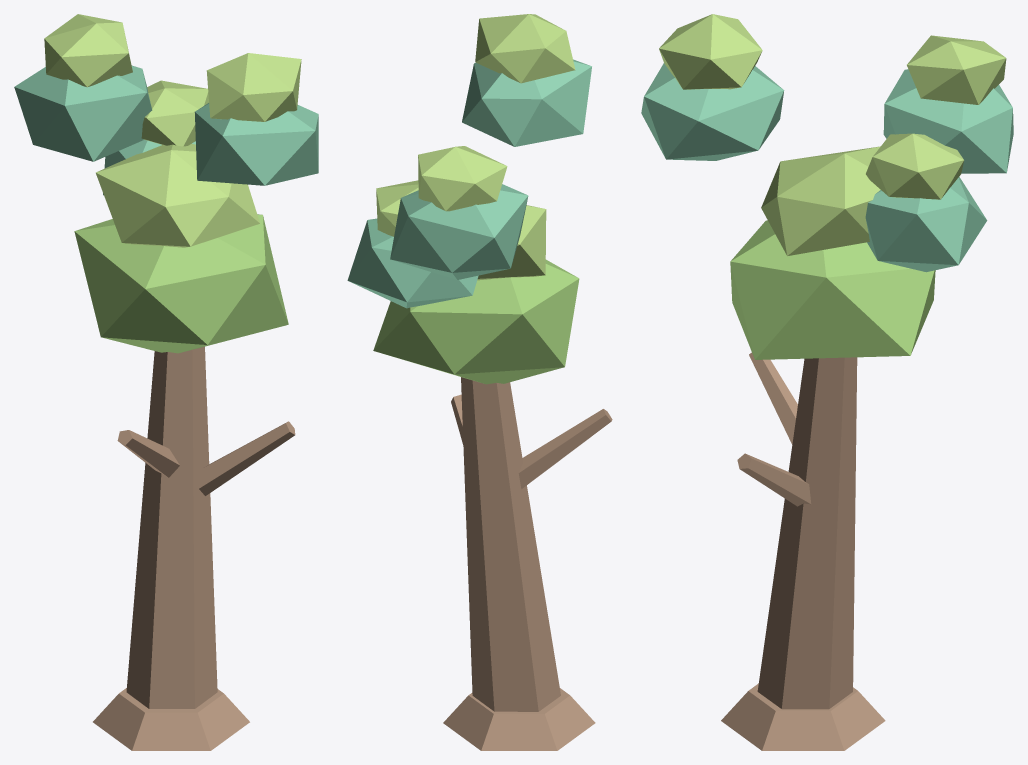
File: PG_Tree_Riverside_A.fbx
The picture shows the model from 3 angles, left to right: view 1: azimuth 30°, elevation 25°; view 2: azimuth 150°, elevation 25°; view 3: azimuth 270°, elevation 25°; orthographic projection. The views are drawn at different scales.
Visible parts, largest first — view 1: PG_Tree_Riverside_A; view 2: PG_Tree_Riverside_A; view 3: PG_Tree_Riverside_A.
Boxes of the visible parts, x1,y1,x2,y2 form: PG_Tree_Riverside_A: (14, 14, 318, 750); PG_Tree_Riverside_A: (347, 14, 612, 750); PG_Tree_Riverside_A: (641, 14, 1013, 750).
Size of the model in its own units: 1.09 by 4.09 by 1.9.
